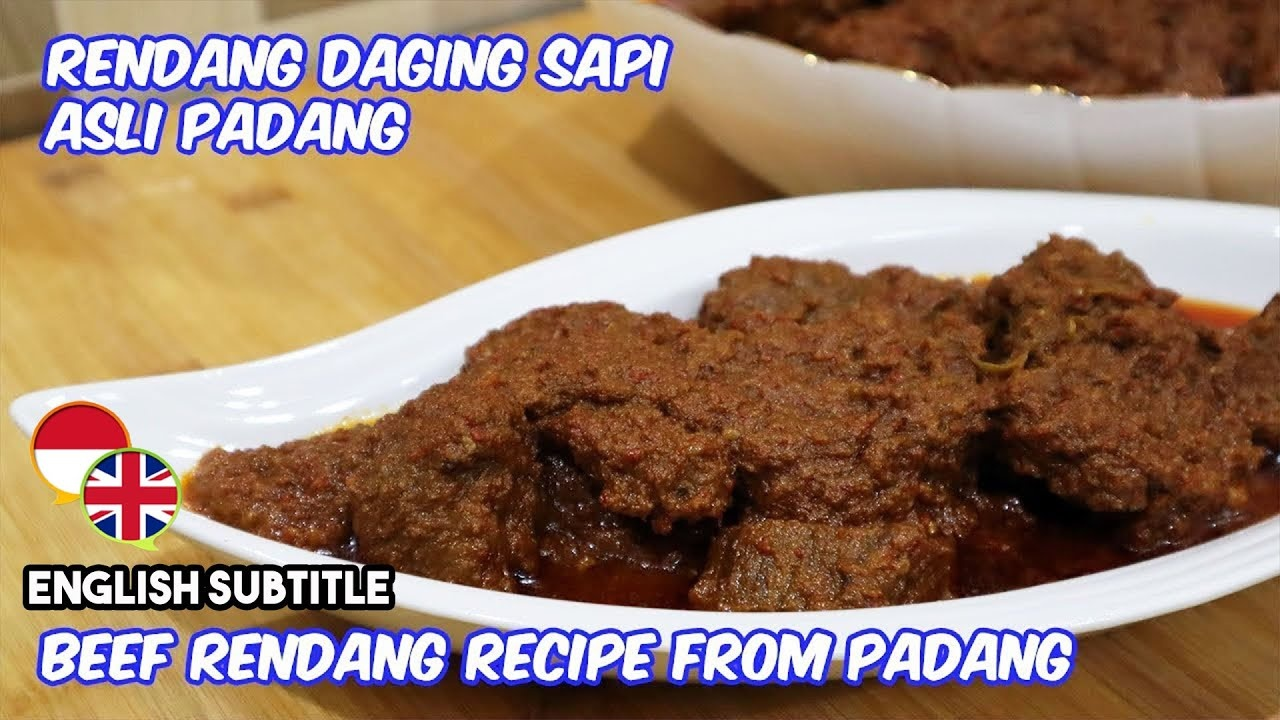rendang: (323, 222, 1277, 591)
